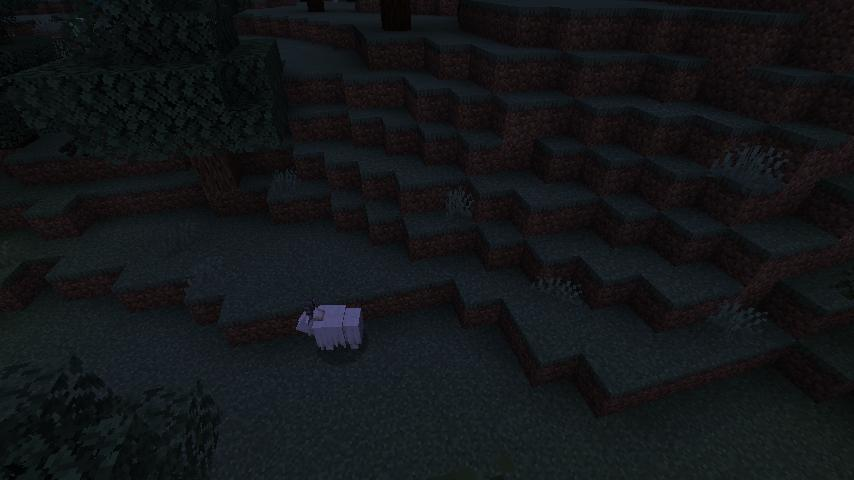goat: (294, 299, 367, 351)
